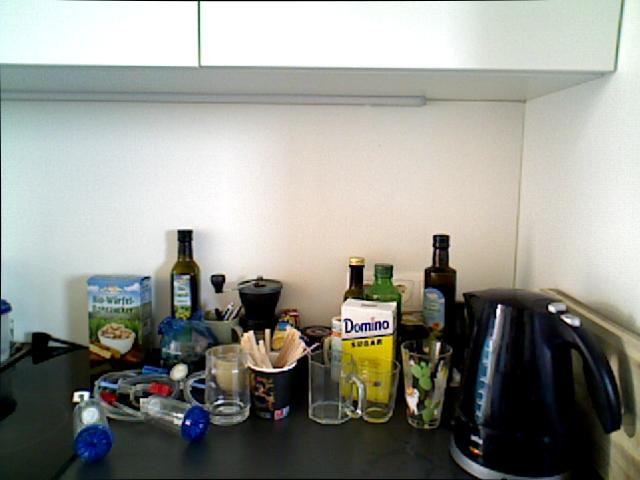bench: (422, 233, 459, 375), (361, 260, 404, 375), (170, 228, 202, 352), (341, 256, 365, 365)
bird: (97, 324, 136, 354)
handbag: (180, 345, 260, 428), (238, 349, 301, 424), (400, 339, 452, 429), (307, 349, 364, 424), (353, 356, 401, 423)
